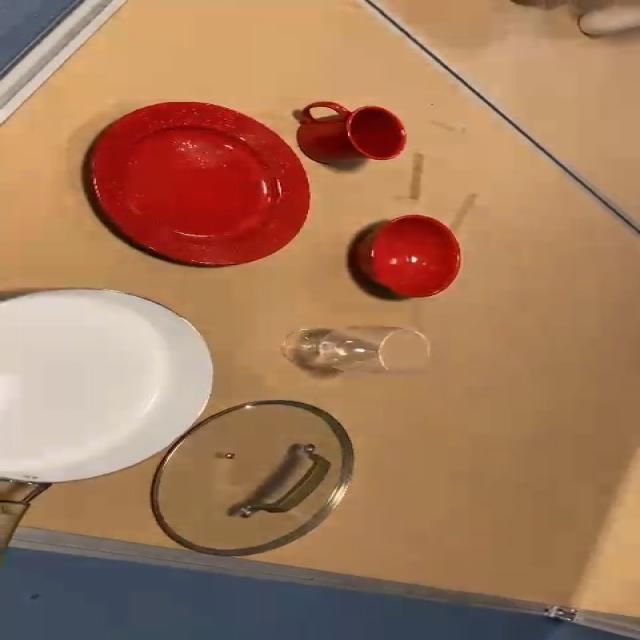Bowl: (353, 212, 470, 312)
Glass: (275, 319, 440, 384)
Plate: (83, 100, 312, 274)
cup: (280, 99, 408, 180)
pot: (0, 286, 210, 532)
